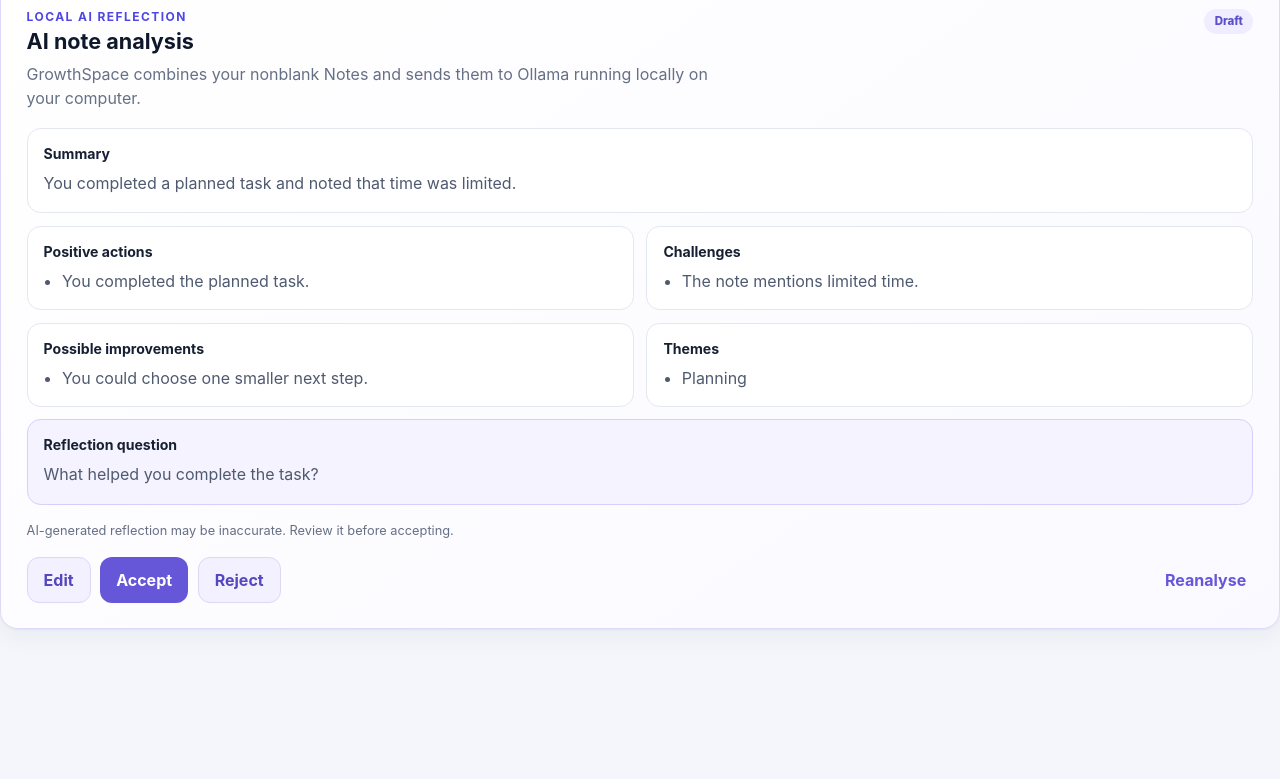
Scenario: NoteAnalysisPanel › edits an analysis and returns it to draft
The image size is (1280, 779).
Click the button "Edit" at (59, 580), box x1=27 y1=556 x2=91 y2=602
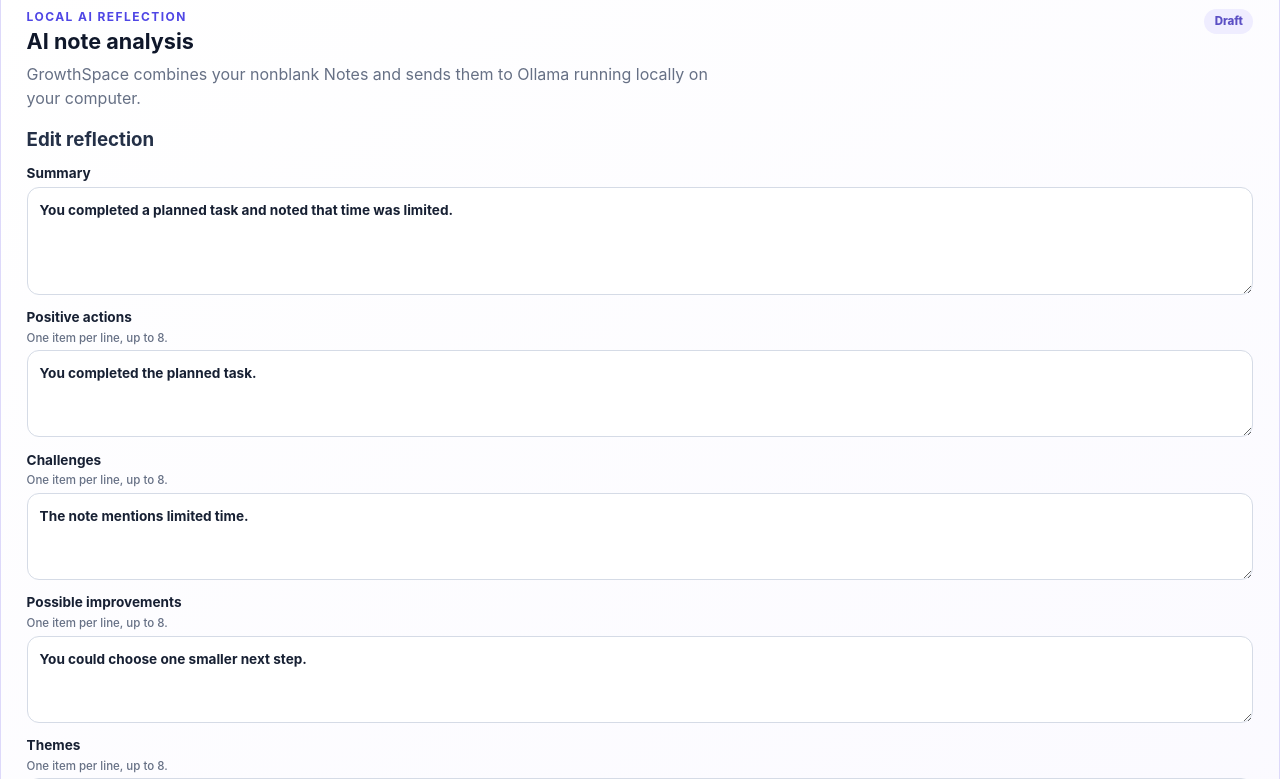
Replace the text in the text box labelled "Summary" with "Edited summary." at (640, 241), box x1=27 y1=187 x2=1253 y2=295
(page scrolled)
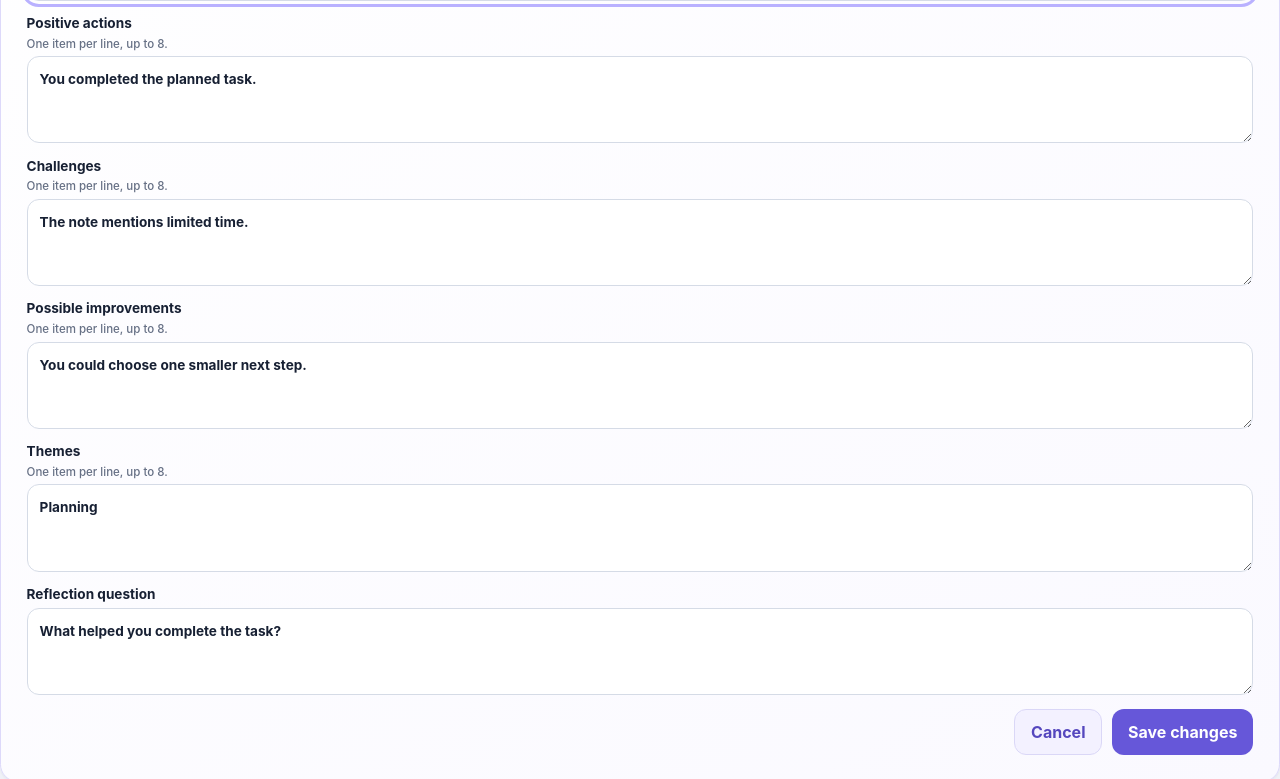
Click the button "Save changes" at (1183, 732), box x1=1112 y1=709 x2=1253 y2=755
(page scrolled)
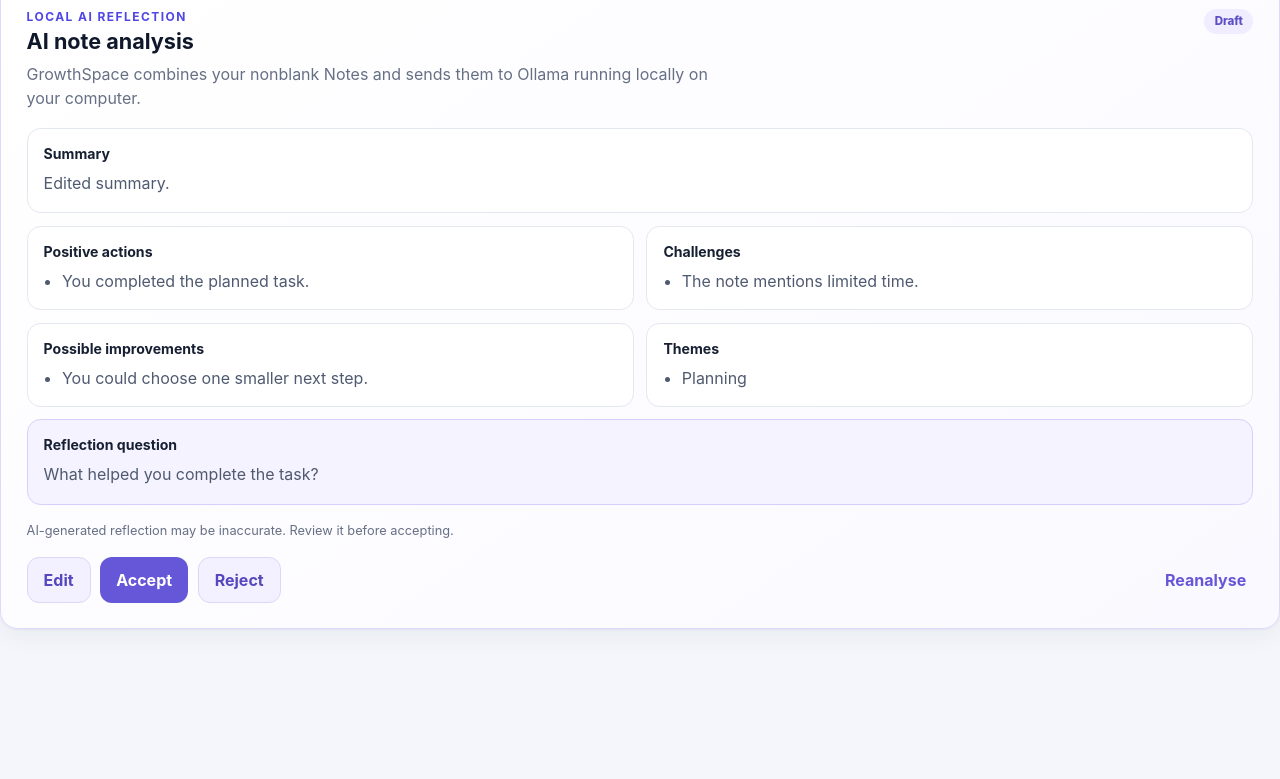
Expected: the text "Edited summary." is shown, x1=44 y1=173 x2=170 y2=193
